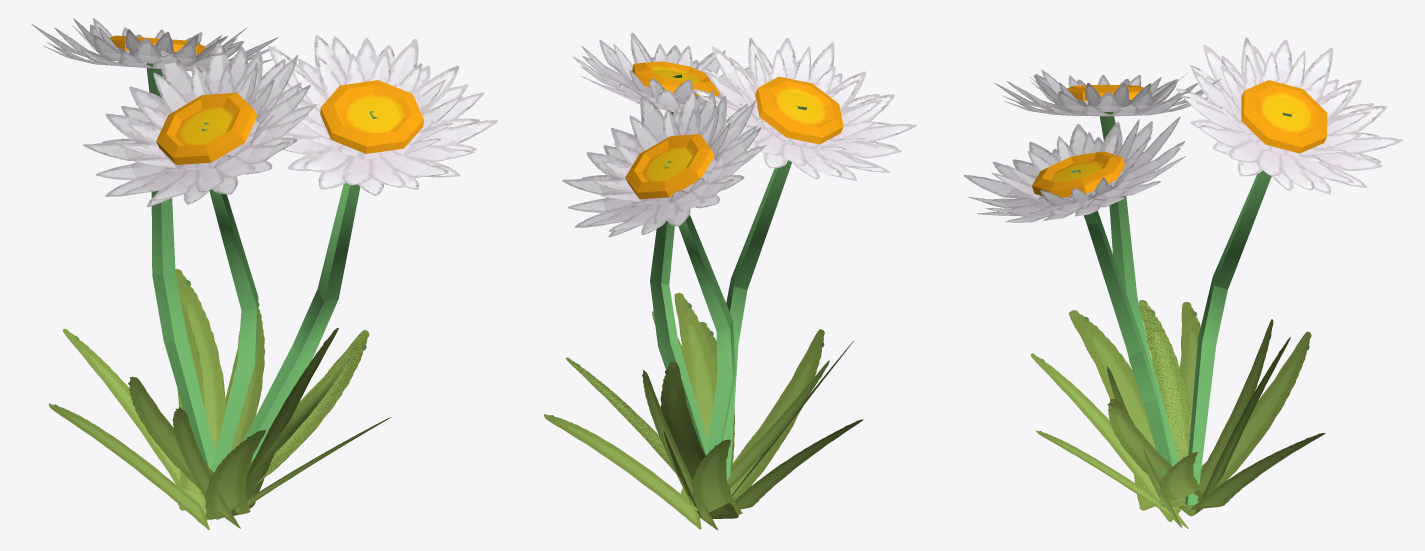
The model's file is White Paper Daisy_Hand.fbx.
3 views of the same model, side by side, from view 1: azimuth 30°, elevation 25°; view 2: azimuth 150°, elevation 25°; view 3: azimuth 270°, elevation 25° (orthographic). The views are drawn at different scales.
Visible parts, largest first — view 1: Leaves (1), Leaves (3), Leaves (2); view 2: Leaves (2), Leaves (1), Leaves (3); view 3: Leaves (2), Leaves (3), Leaves (1).
Boxes of the visible parts, x1=… form: Leaves (1): x1=48, y1=43, x2=357, y2=529; Leaves (3): x1=172, y1=35, x2=497, y2=528; Leaves (2): x1=31, y1=18, x2=338, y2=522; Leaves (2): x1=544, y1=89, x2=829, y2=529; Leaves (1): x1=642, y1=38, x2=916, y2=530; Leaves (3): x1=566, y1=32, x2=854, y2=518; Leaves (2): x1=1106, y1=37, x2=1402, y2=527; Leaves (3): x1=963, y1=116, x2=1273, y2=528; Leaves (1): x1=994, y1=70, x2=1290, y2=521.
Size of the model in its own units: 1.14 by 1.41 by 1.27.
